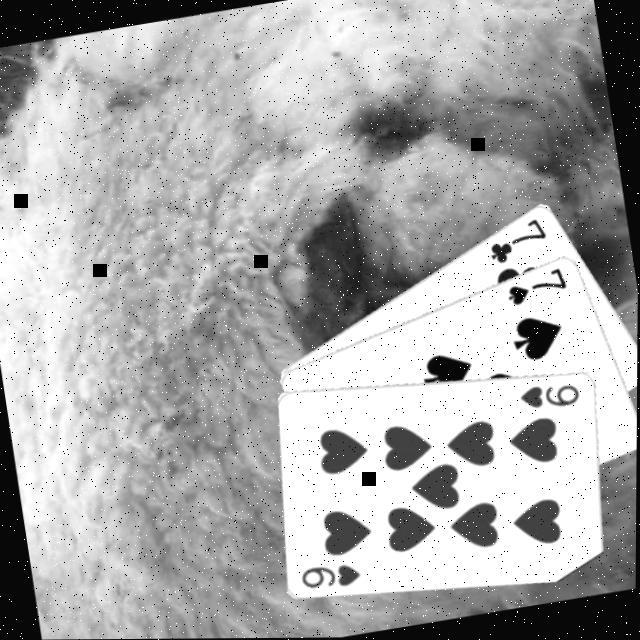7C: (482, 216, 552, 270)
7S: (502, 265, 572, 311)
9H: (297, 558, 366, 598), (516, 377, 584, 417)
